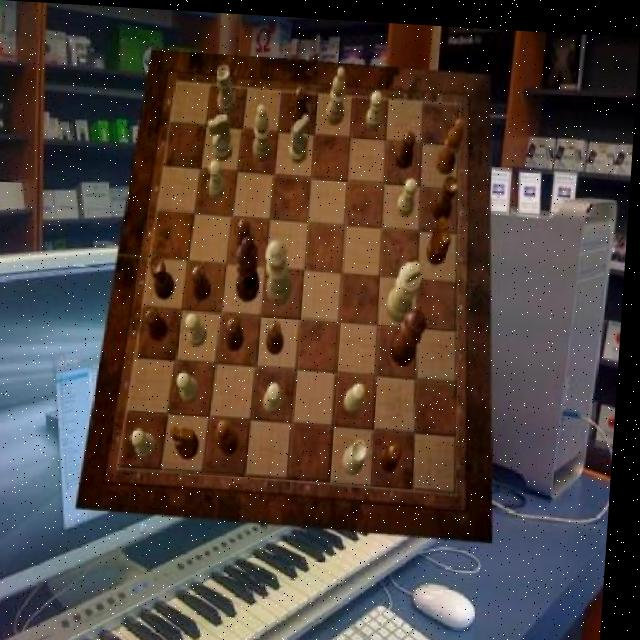bishop: (437, 111, 467, 170), (221, 418, 247, 453)
black-bishop: (239, 233, 267, 300)
black-king: (429, 210, 456, 260), (177, 423, 207, 459)
black-knight: (147, 306, 173, 341), (397, 125, 417, 164), (194, 262, 216, 297), (386, 436, 410, 468), (293, 83, 311, 124), (229, 314, 250, 349), (240, 215, 259, 253), (270, 318, 289, 353)
black-pawn: (393, 302, 432, 363)
black-queen: (433, 170, 461, 217), (151, 252, 180, 297)
black-rook: (254, 101, 276, 160), (328, 63, 349, 123)
white-bishop: (389, 254, 425, 318)
white-king: (209, 110, 238, 160), (291, 109, 312, 161)
white-knight: (136, 426, 164, 458), (188, 311, 213, 346), (182, 369, 207, 403), (210, 158, 229, 197), (401, 173, 420, 212), (349, 377, 371, 409), (368, 87, 386, 126), (269, 378, 288, 410)
white-pawn: (266, 238, 299, 303)
white-queen: (215, 61, 240, 113), (348, 434, 374, 471)
